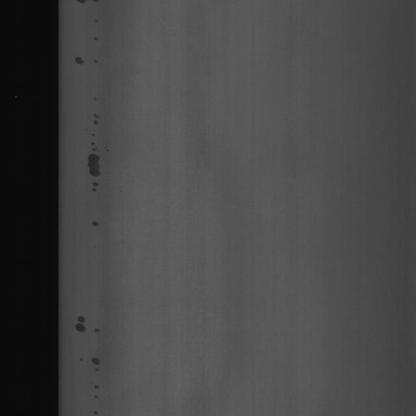oil_spot: (84, 110, 104, 238), (70, 34, 88, 73), (74, 309, 85, 344), (88, 351, 102, 372)
